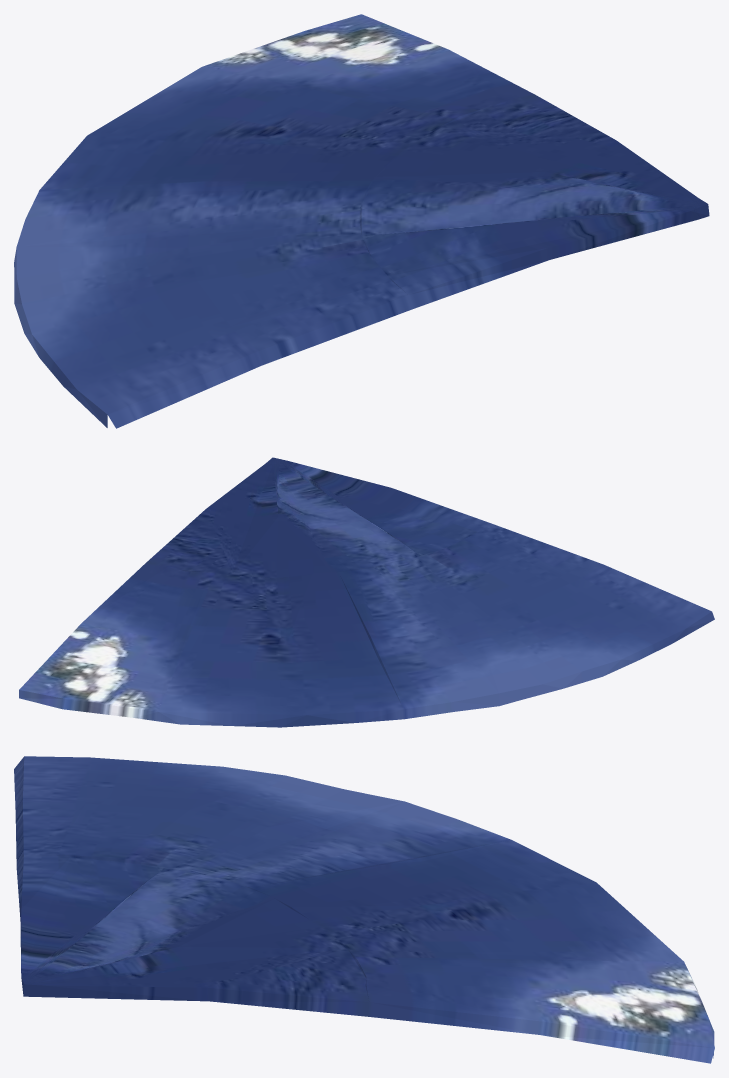
3 views of the same model, one above another, from view 1: azimuth 30°, elevation 25°; view 2: azimuth 150°, elevation 25°; view 3: azimuth 270°, elevation 25° (orthographic). The views are drawn at different scales.
Size of the model in its own units: 1273555 by 153260 by 1269523.
Materials: 1 (1 with a texture image).
